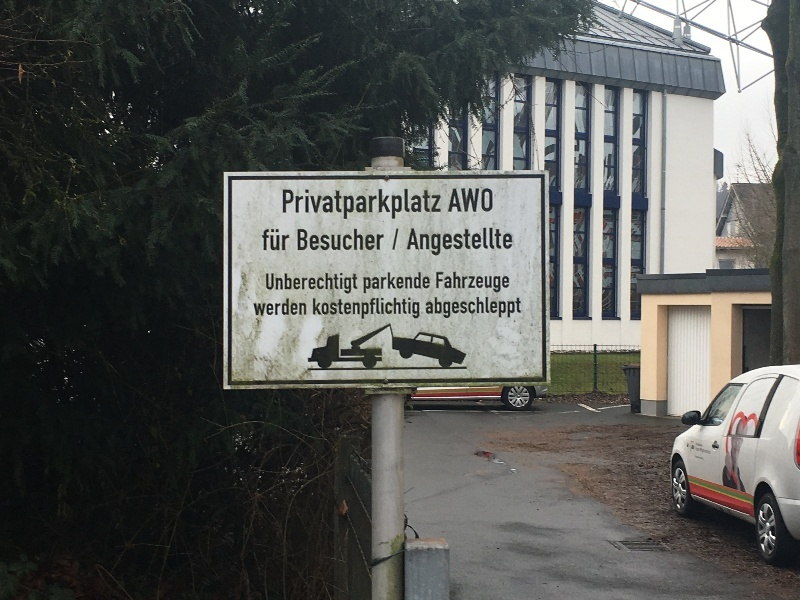text: (289, 190, 304, 220), (305, 190, 320, 220), (321, 190, 336, 220), (337, 190, 352, 220), (353, 190, 368, 220), (369, 190, 384, 220), (385, 190, 400, 220), (401, 190, 416, 220), (417, 190, 432, 220), (417, 228, 432, 257), (433, 228, 448, 257), (449, 228, 464, 257), (465, 228, 480, 257), (481, 228, 496, 257), (497, 228, 512, 257), (465, 188, 480, 212), (433, 296, 448, 319), (449, 296, 464, 319), (465, 296, 480, 319), (481, 296, 496, 319), (497, 296, 512, 319), (273, 229, 288, 251), (305, 229, 320, 251), (321, 229, 336, 251), (337, 229, 352, 251), (353, 229, 368, 251), (449, 271, 464, 293), (465, 271, 480, 293), (481, 271, 496, 293), (369, 273, 384, 294), (385, 273, 400, 294), (401, 273, 416, 294), (321, 298, 336, 319), (337, 298, 352, 319), (353, 298, 368, 319), (369, 298, 384, 319), (385, 298, 400, 319), (401, 298, 416, 319), (369, 229, 383, 251), (273, 274, 288, 294), (289, 274, 304, 294), (305, 274, 320, 294), (321, 274, 336, 294), (337, 274, 352, 294), (481, 188, 493, 212), (497, 271, 509, 293), (453, 188, 464, 212), (257, 299, 272, 316), (273, 299, 288, 316), (289, 299, 304, 316), (417, 273, 429, 294), (437, 271, 448, 293), (433, 190, 441, 220), (263, 229, 272, 251), (513, 296, 521, 319), (283, 190, 288, 220), (426, 296, 432, 319), (298, 229, 304, 251), (314, 298, 320, 319), (412, 228, 416, 257), (395, 229, 400, 250), (267, 274, 272, 294), (353, 274, 358, 294), (364, 273, 368, 294), (417, 298, 420, 319), (696, 448, 704, 455), (253, 299, 256, 316), (705, 448, 712, 455), (696, 455, 704, 460), (305, 299, 307, 316), (696, 443, 704, 447), (289, 229, 290, 251)
